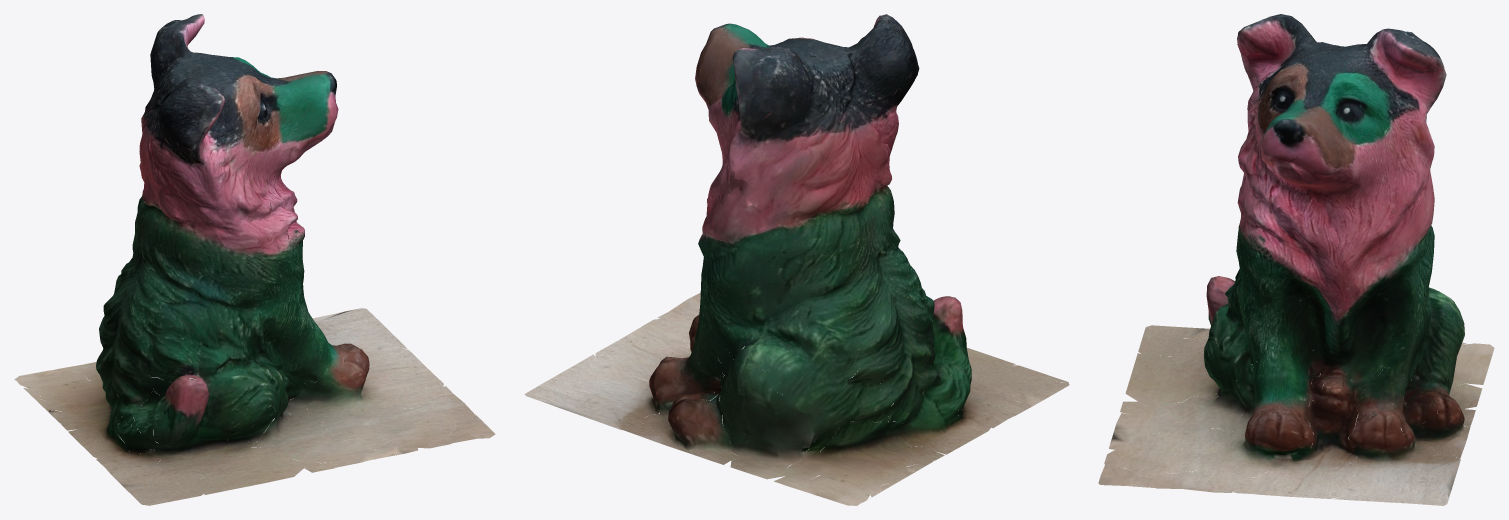
Rendered from asset.glb.
The picture shows the model from 3 angles, left to right: view 1: azimuth 30°, elevation 25°; view 2: azimuth 150°, elevation 25°; view 3: azimuth 270°, elevation 25°; orthographic projection. The views are drawn at different scales.
Parts seen in each view (by area): view 1: Mesh_0; view 2: Mesh_0; view 3: Mesh_0.
Boxes of the visible parts, bbox=[...] form: Mesh_0: bbox=[14, 14, 495, 505]; Mesh_0: bbox=[524, 14, 1069, 505]; Mesh_0: bbox=[1098, 14, 1494, 505].
Size of the model in its own units: 1.1 by 1.04 by 0.9905.
Materials: 1 (1 with a texture image).
